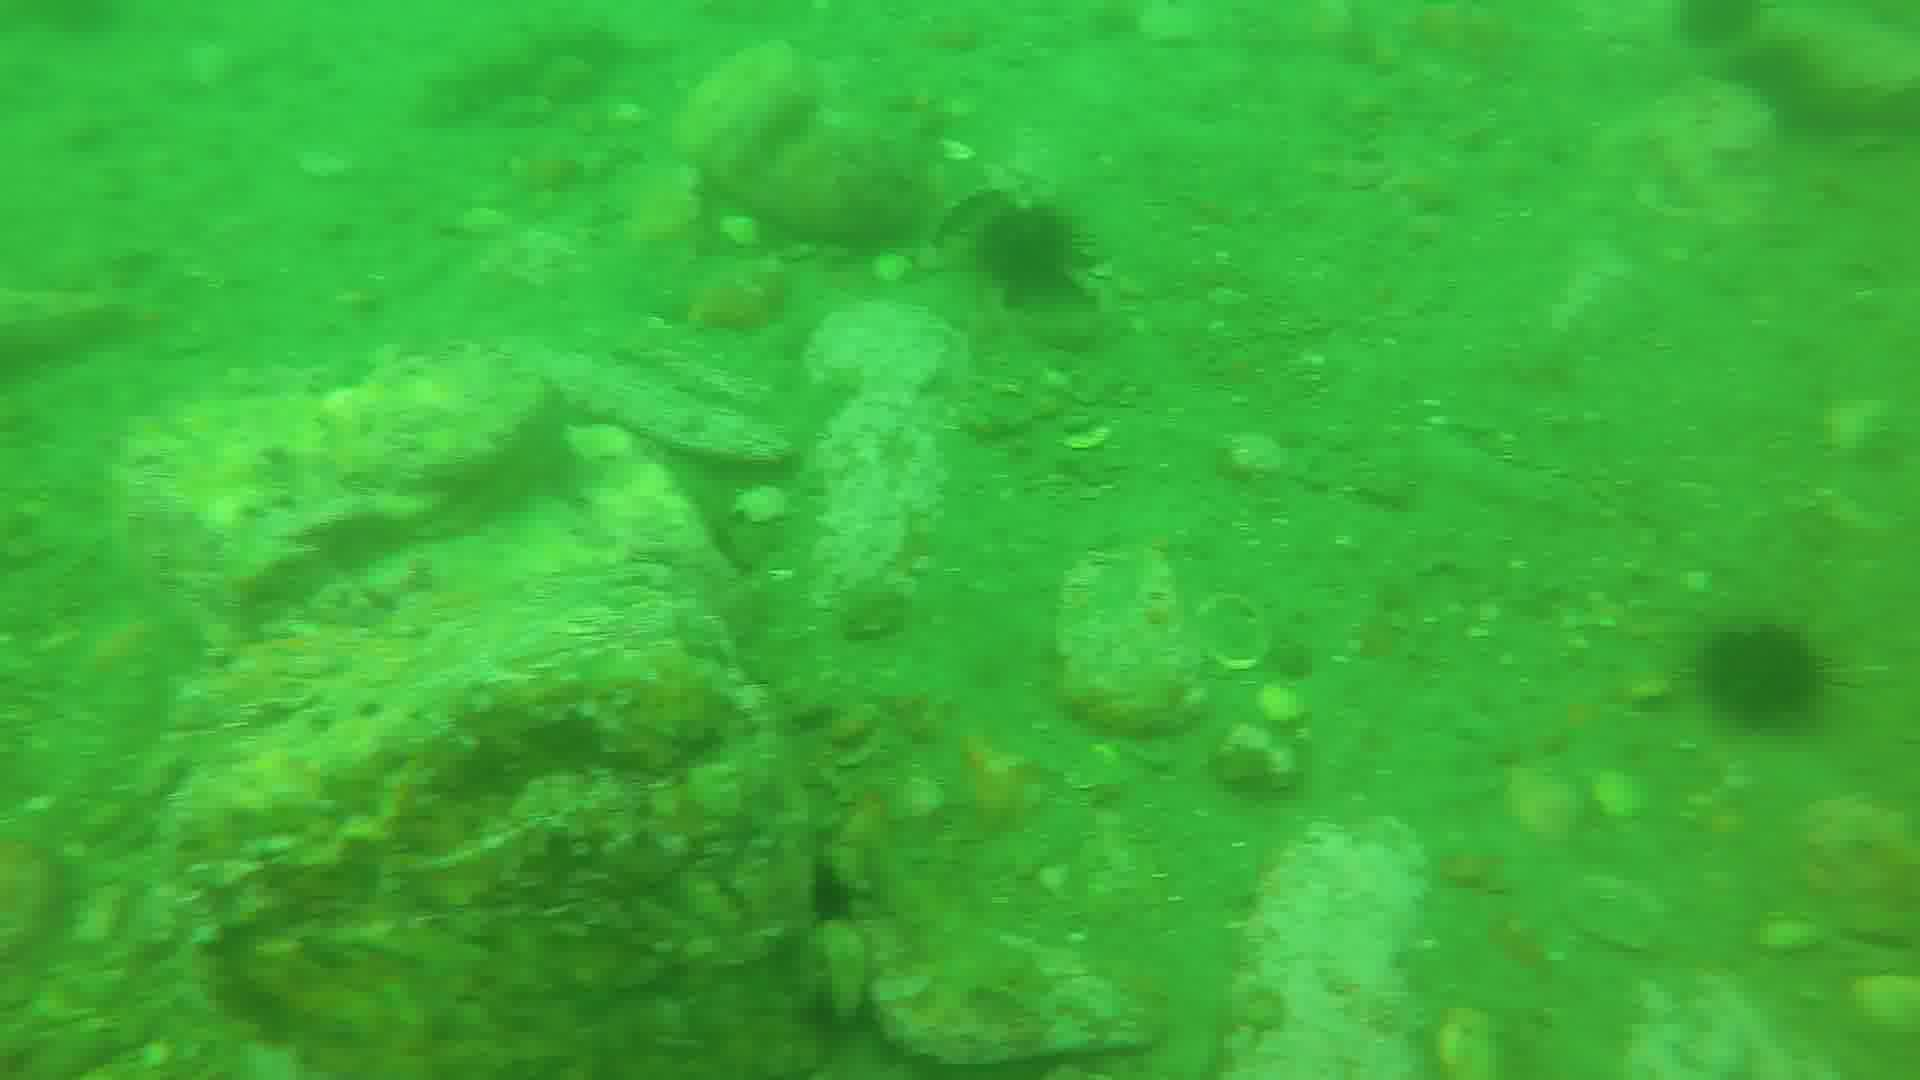echinus: (1697, 618, 1826, 732), (980, 203, 1087, 297)
